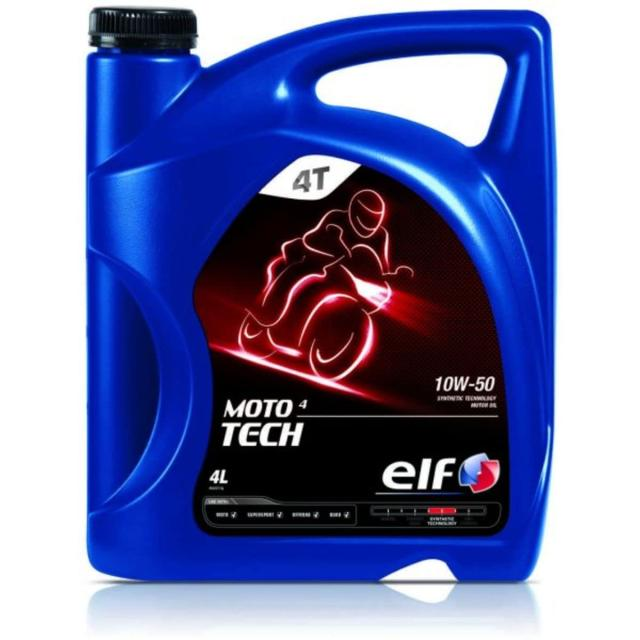motor_oil: (79, 3, 565, 594)
